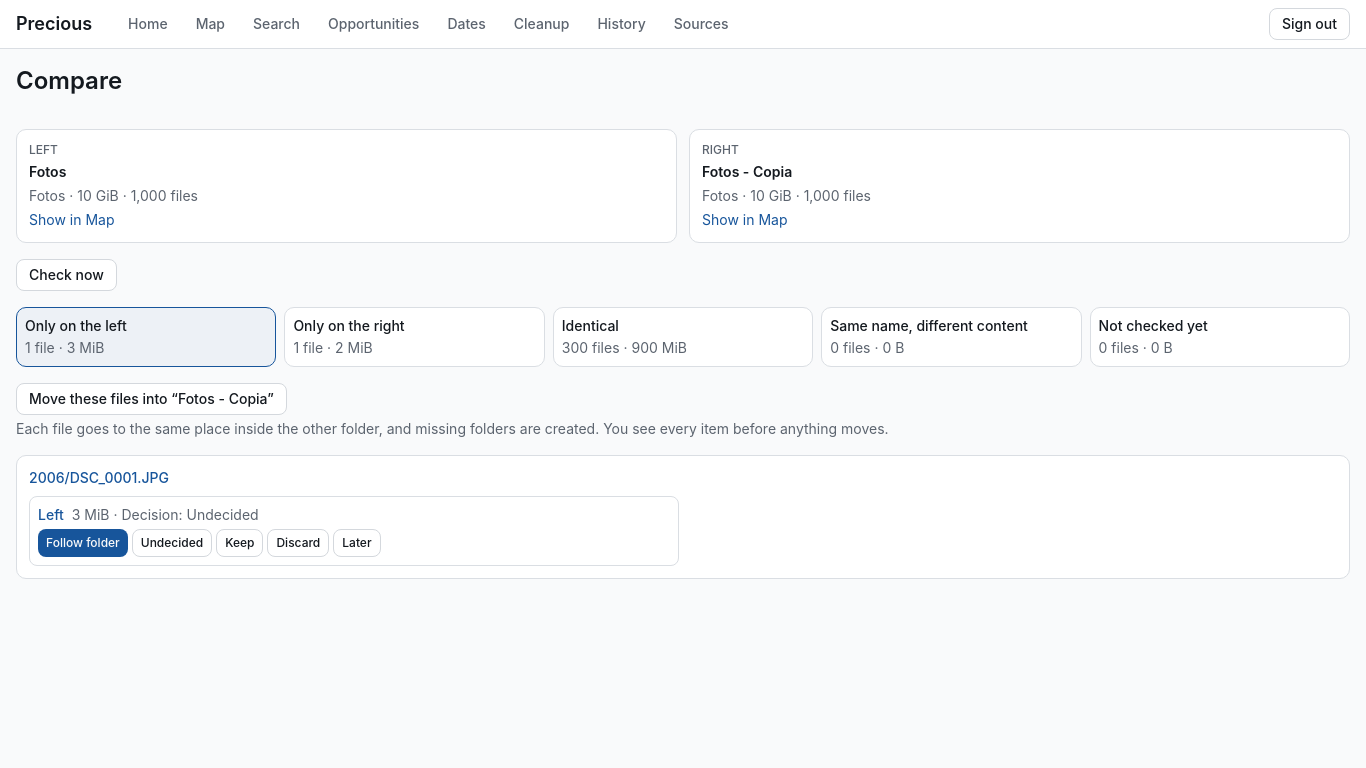
Test: Moving the files only on one side in Compare › is offered only on the two only-on-one-side groups
Check: the button "Move these files into “Fotos - Copia”" is shown, box [16, 383, 287, 415]
Click the link "Only on the right 1 file · 2 MiB": (349, 326) [284, 307, 545, 367]
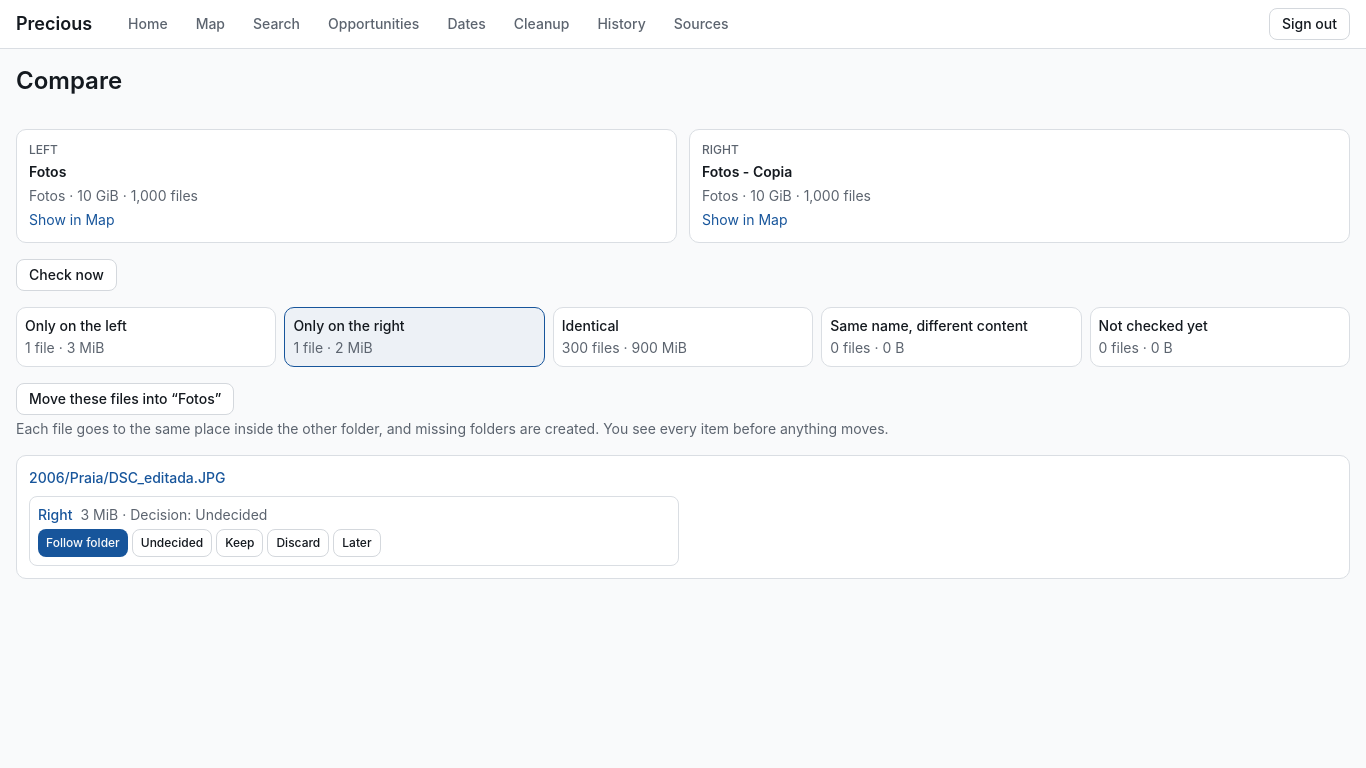
Check: the button "Move these files into “Fotos”" is shown, box [16, 383, 234, 415]
Click the link "Identical 300 files · 900 MiB": (683, 337) [553, 307, 813, 367]
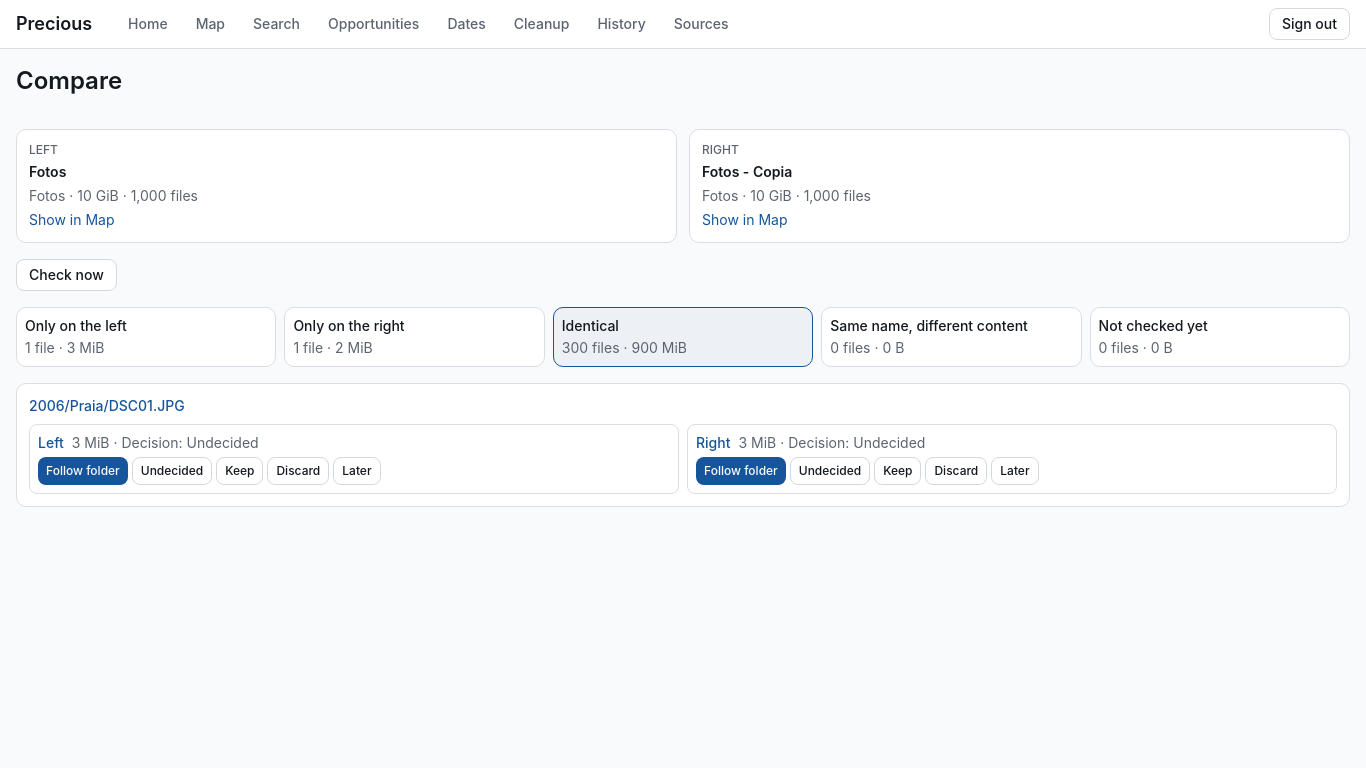
Check: the list named "Files: Identical" is shown, box [16, 383, 1350, 507]
Check: the button "Move these files" is gone
Click the link "Same name, different content 0 files · 0 B": (951, 337) [821, 307, 1082, 367]
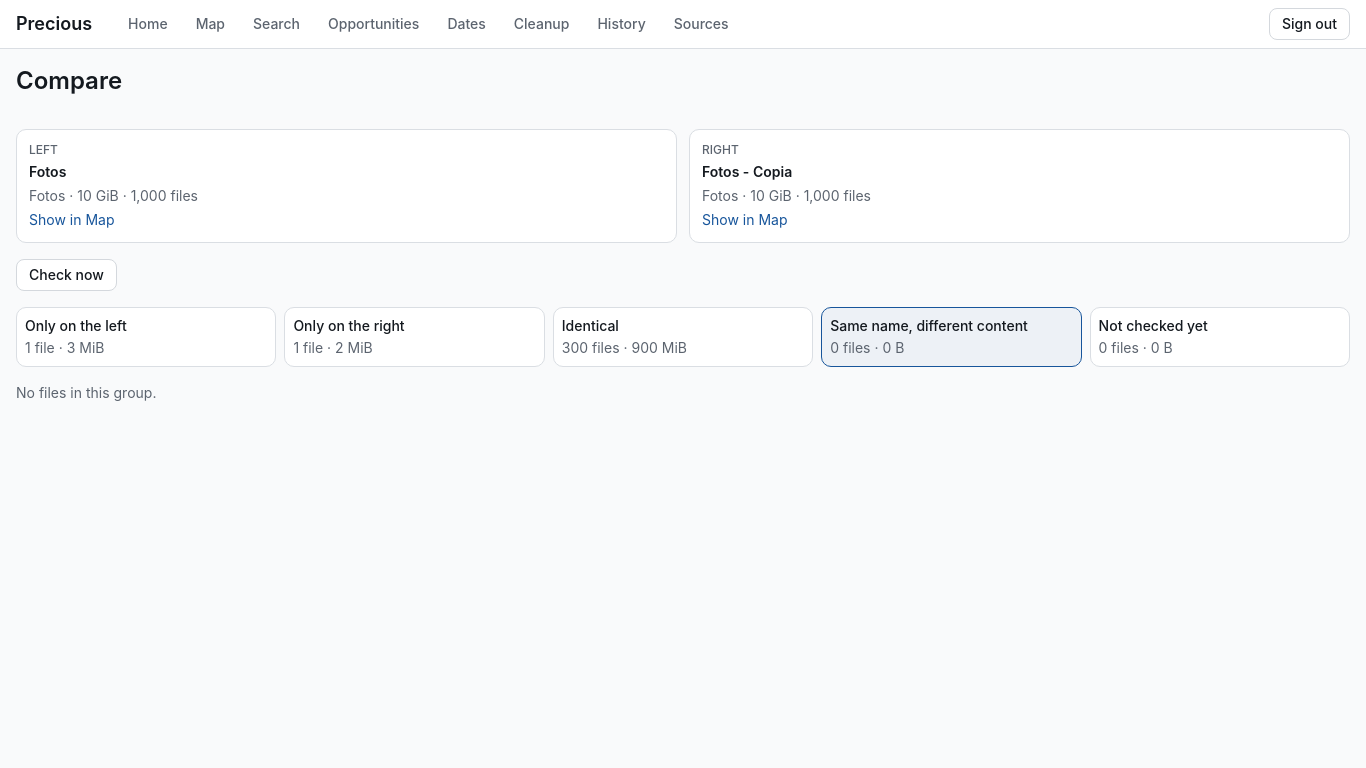
Check: the button "Move these files" is not shown
Check: the text "No files in this group." is shown, box [16, 384, 156, 401]
